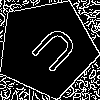U: (22, 23, 81, 82)
